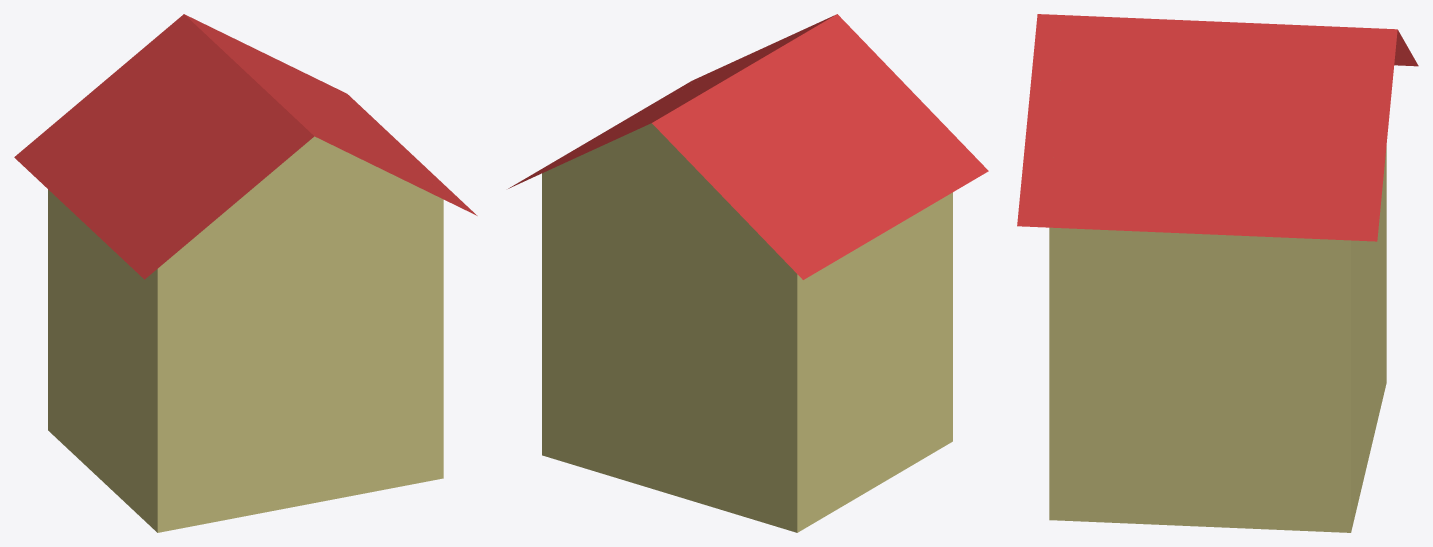
The picture shows the model from 3 angles, left to right: view 1: azimuth 30°, elevation 25°; view 2: azimuth 150°, elevation 25°; view 3: azimuth 270°, elevation 25°; orthographic projection. The views are drawn at different scales.
Bounding box in the file's own units: 7.67 × 6.84 × 8.1.
